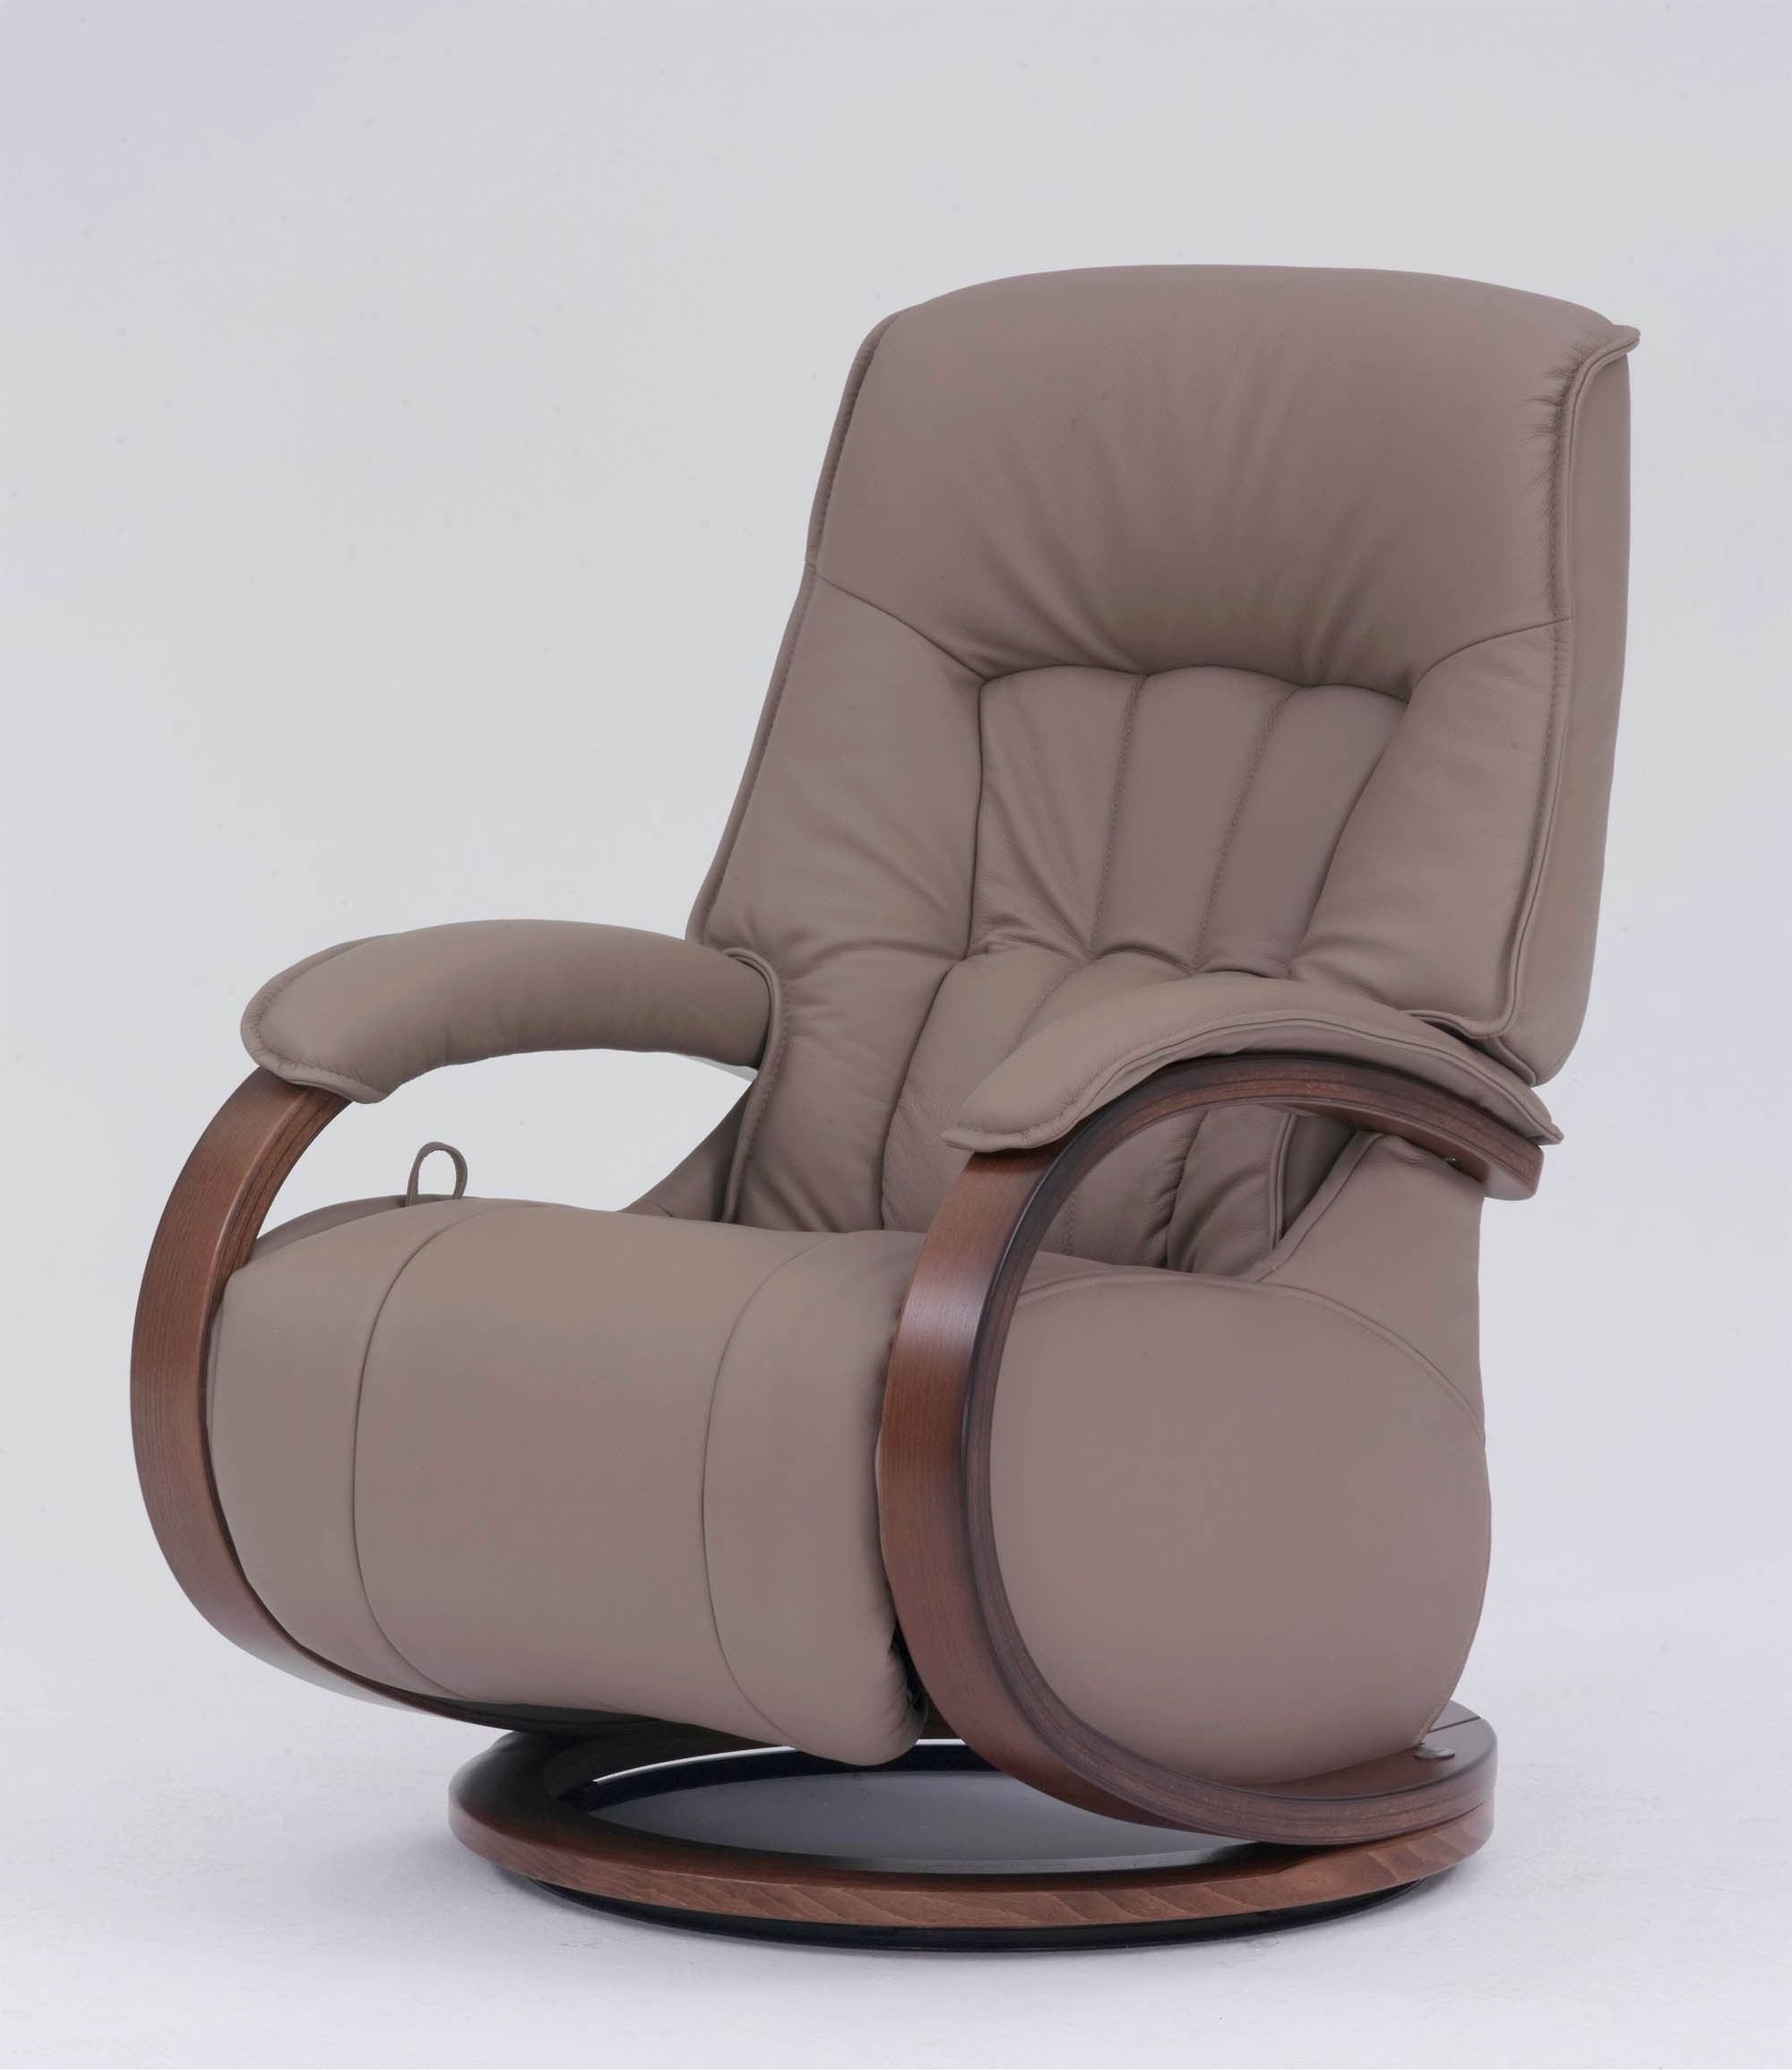chairs: (130, 245, 1642, 1950)
